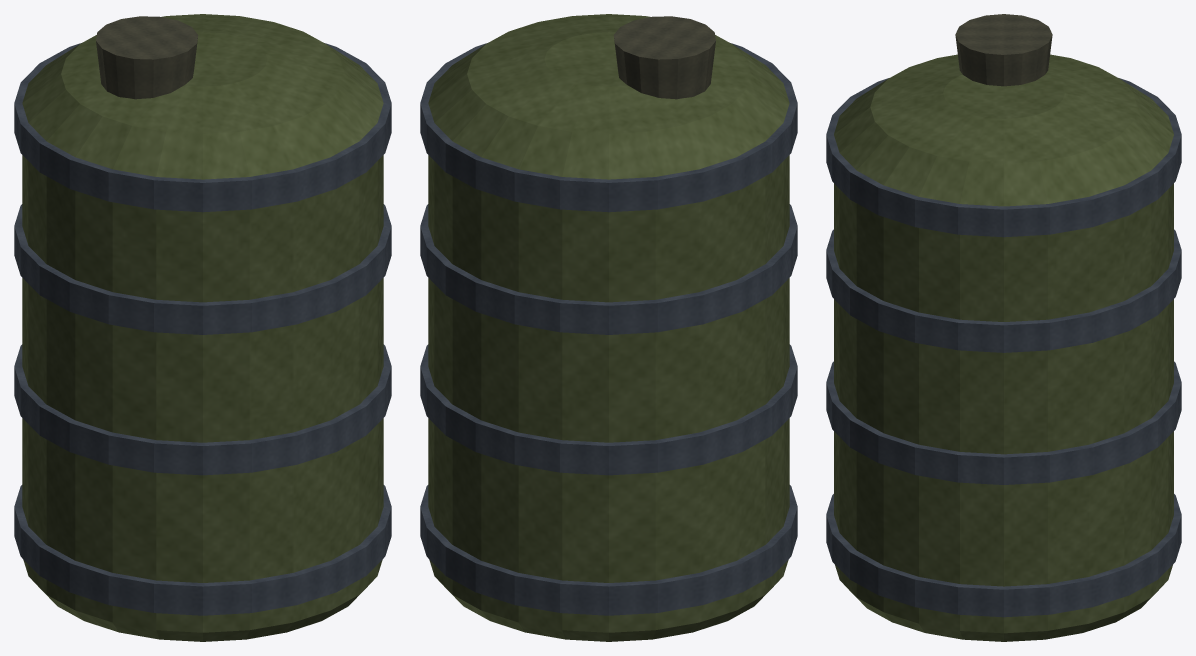
The model's file is wwi_fuel.glb.
3 views of the same model, side by side, from view 1: azimuth 30°, elevation 25°; view 2: azimuth 150°, elevation 25°; view 3: azimuth 270°, elevation 25° (orthographic). The views are drawn at different scales.
Parts seen in each view (by area): view 1: wwi_fuel.body; view 2: wwi_fuel.body; view 3: wwi_fuel.body.
Boxes of the visible parts, left/top/right/bottom form: wwi_fuel.body: left=14, top=14, right=391, bottom=641; wwi_fuel.body: left=420, top=14, right=797, bottom=641; wwi_fuel.body: left=826, top=14, right=1181, bottom=641.
Bounding box in the file's own units: 0.117 × 0.187 × 0.117.
3 materials, 3 textured.
